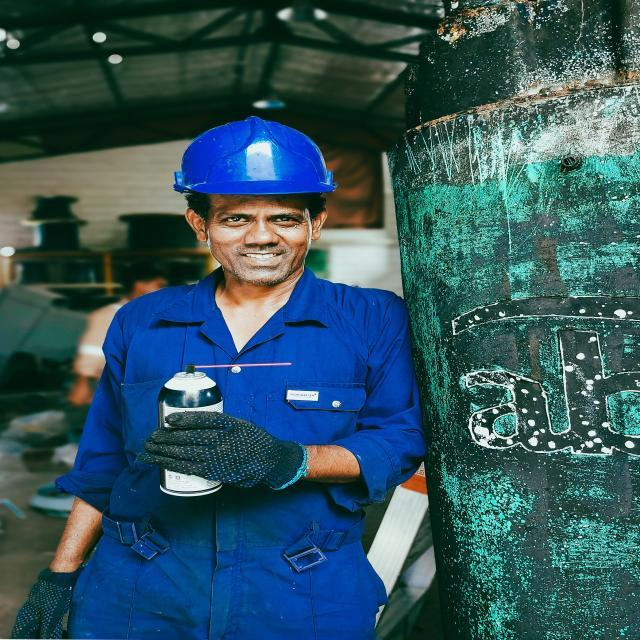helmet: (170, 116, 341, 227)
